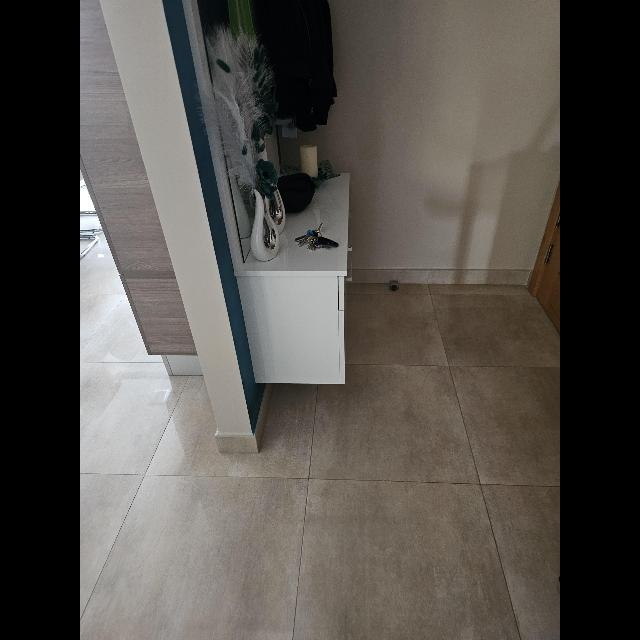Keys: (294, 222, 336, 250)
